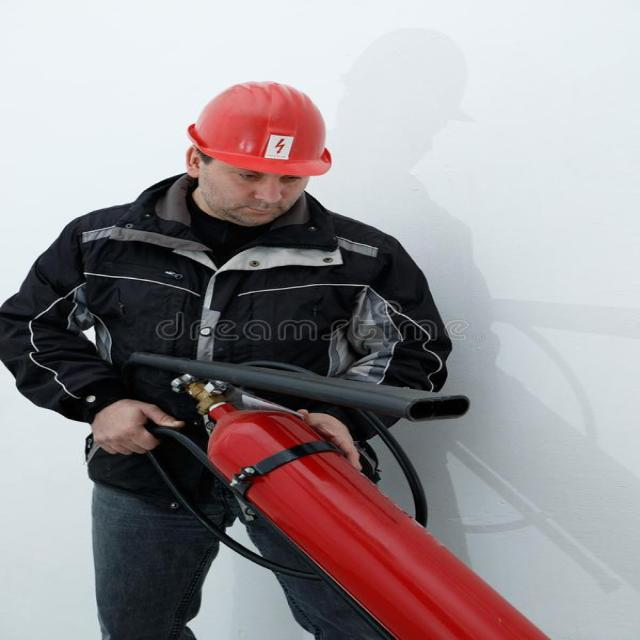fire_extinguisher: (97, 346, 590, 639)
